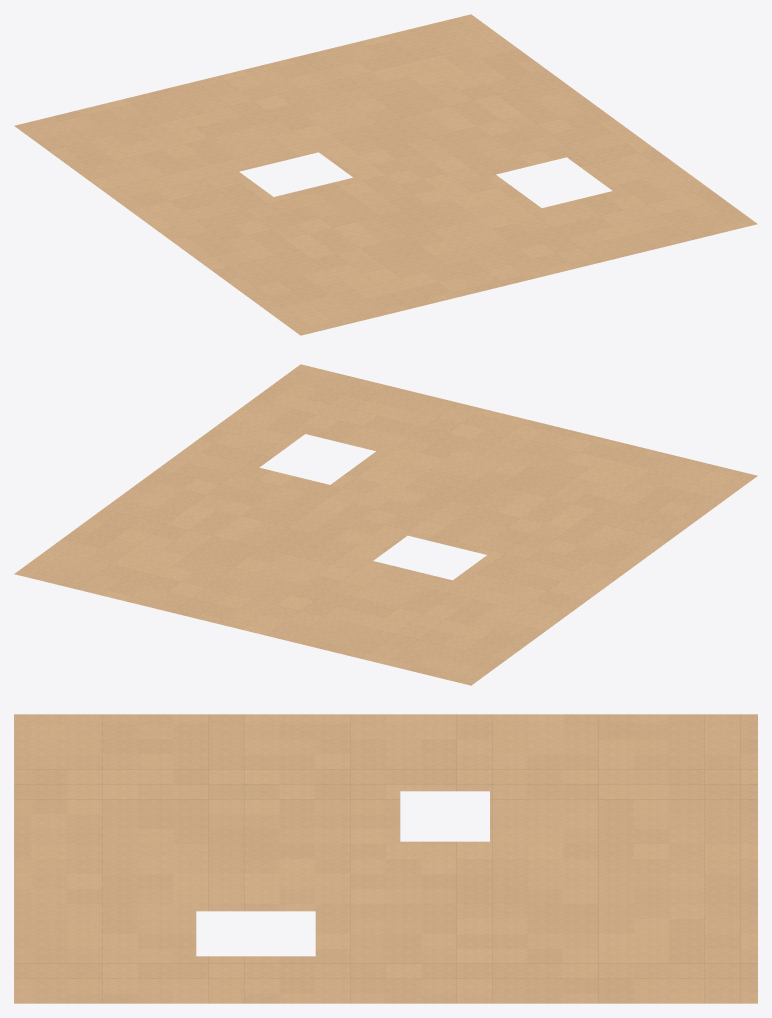
File: quay-plaza.glb
3 renders of one model, top to bottom at view 1: azimuth 30°, elevation 25°; view 2: azimuth 150°, elevation 25°; view 3: azimuth 270°, elevation 25°, orthographic. The views are drawn at different scales.
Visible parts, largest first — view 1: quay-plaza; view 2: quay-plaza; view 3: quay-plaza.
Part boxes in pixels (<box>): quay-plaza: <box>14,14,757,335</box>; quay-plaza: <box>14,364,757,685</box>; quay-plaza: <box>14,714,757,1003</box>.
Size of the model in its own units: 116 by 0.003 by 126.
Materials: 1 (1 with a texture image).
